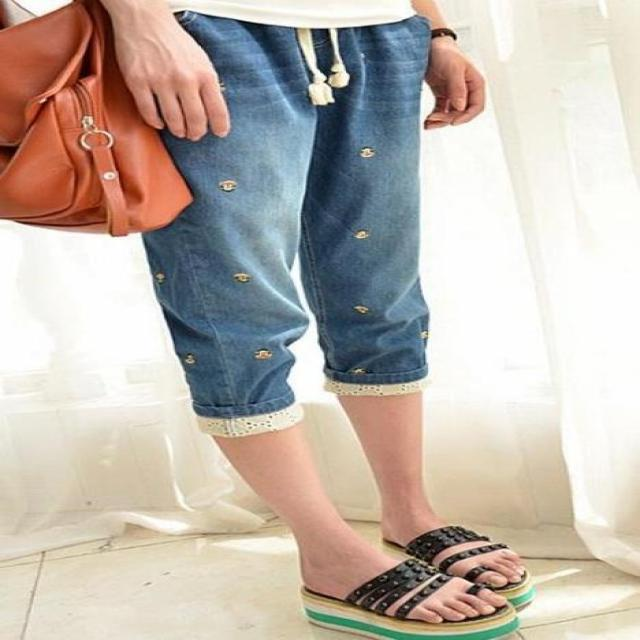trousers: (82, 8, 488, 480)
